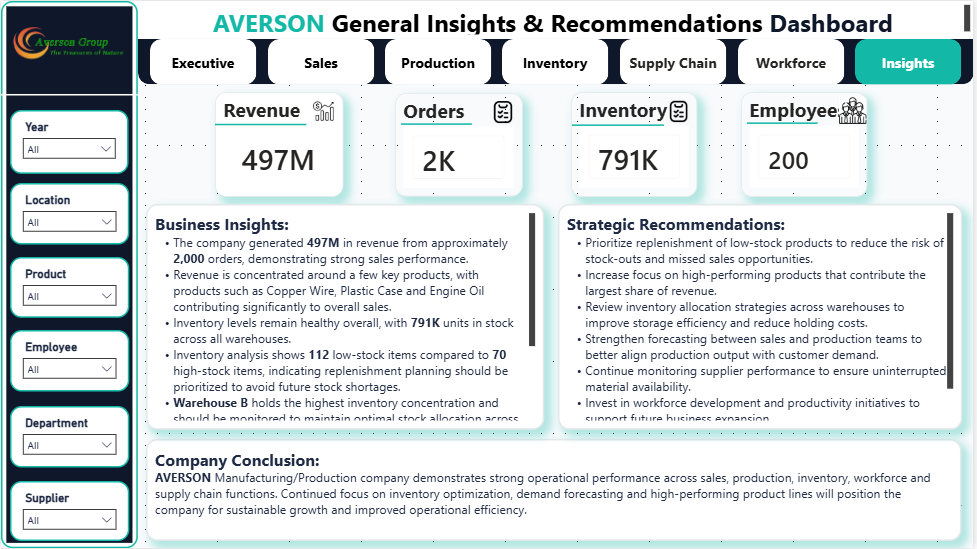

What the dashboard file says about the page in this screenshot:
{"tool":"powerbi","page":{"name":"General Insights & Recommendations","canvas":[1280,720],"ordinal":6},"visuals":[{"type":"shape","box":[0,0,180,720],"z":0,"group":"g12"},{"type":"textbox","box":[180.4,0,1099.6,49.5],"z":0},{"type":"group","id":"g1","title":"Group 2","box":[196.4,49.5,140,60],"z":0,"group":"g13"},{"type":"shape","box":[196.4,49.5,140,60],"z":0,"group":"g1"},{"type":"group","id":"g2","title":"Group 2","box":[351.1,49.5,140,60],"z":0,"group":"g14"},{"type":"shape","box":[351.1,49.5,140,60],"z":0,"group":"g2"},{"type":"group","id":"g3","title":"Group 2","box":[505.3,49.5,140,60],"z":0,"group":"g15"},{"type":"shape","box":[505.3,49.5,140,60],"z":0,"group":"g3"},{"type":"group","id":"g4","title":"Group 2","box":[659.9,49.5,140,60],"z":0,"group":"g16"},{"type":"shape","box":[659.9,49.5,140,60],"z":0,"group":"g4"},{"type":"group","id":"g5","title":"Group 2","box":[815.4,49.5,140,60],"z":0,"group":"g17"},{"type":"shape","box":[815.4,49.5,140,60],"z":0,"group":"g5"},{"type":"group","id":"g6","title":"Group 2","box":[969.8,49.5,140,60],"z":0,"group":"g18"},{"type":"shape","box":[969.8,49.5,140,60],"z":0,"group":"g6"},{"type":"group","id":"g7","title":"Group 2","box":[1124.4,49.5,140,60],"z":0,"group":"g19"},{"type":"shape","box":[1124.4,49.5,140,60],"z":0,"group":"g7"},{"type":"cardVisual","title":"Revenue","fields":{"Data":["My Executive Dashboard Measures.Total Revenue"]},"box":[281.9,119.7,168.7,138.2],"z":0,"group":"g20"},{"type":"cardVisual","title":"Inventory","fields":{"Data":["My Executive Dashboard Measures.Total Inventory"]},"box":[750.4,120.2,166.1,137.8],"z":0,"group":"g22"},{"type":"cardVisual","title":"Employees","fields":{"Data":["My Executive Dashboard Measures.Total Employees"]},"box":[974.4,120.2,166.4,137.8],"z":0,"group":"g8"},{"type":"cardVisual","title":"Orders","fields":{"Data":["My Executive Dashboard Measures.Total Orders"]},"box":[519.1,121.6,167.6,136.4],"z":0,"group":"g21"},{"type":"textbox","box":[196.4,62.6,139.6,34.9],"z":1000,"group":"g1"},{"type":"textbox","box":[351.1,62.6,139.6,34.9],"z":1000,"group":"g2"},{"type":"textbox","box":[505.3,62.6,139.6,34.9],"z":1000,"group":"g3"},{"type":"textbox","box":[659.9,62.6,139.6,34.9],"z":1000,"group":"g4"},{"type":"textbox","box":[815.4,62.6,139.6,34.9],"z":1000,"group":"g5"},{"type":"textbox","box":[969.8,62.6,139.6,34.9],"z":1000,"group":"g6"},{"type":"textbox","box":[1124.4,62.6,139.6,34.9],"z":1000,"group":"g7"},{"type":"group","id":"g8","title":"Group 5","box":[974.4,120.2,167.3,138.2],"z":1000,"group":"g10"},{"type":"shape","box":[282.2,150.2,120,25.1],"z":1000,"group":"g20"},{"type":"shape","box":[982.4,151.1,92.8,21.5],"z":1000,"group":"g8"},{"type":"shape","box":[527.1,152.2,93.5,21.2],"z":1000,"group":"g21"},{"type":"shape","box":[752.1,153.2,121.3,21.5],"z":1000,"group":"g22"},{"type":"shape","box":[11.6,625.5,155.6,84.4],"z":1000},{"type":"image","box":[1102.7,124.8,36.1,41],"z":2000,"group":"g8"},{"type":"image","box":[878.3,126.7,27.6,37.6],"z":2000,"group":"g22"},{"type":"image","box":[410.3,126.9,26.6,37.6],"z":2000,"group":"g20"},{"type":"image","box":[646.6,128.7,28.9,37.2],"z":2000,"group":"g21"},{"type":"shape","box":[11.6,528,157.1,94.5],"z":2000},{"type":"shape","box":[11.6,430.5,157.1,94.5],"z":3000},{"type":"shape","box":[11.6,331.6,157.1,94.5],"z":4000},{"type":"shape","box":[11.6,232.7,157.1,94.5],"z":5000},{"type":"textbox","box":[190.5,267.6,524.5,296.7],"z":5000,"group":"g11"},{"type":"shape","box":[11.6,133.8,157.1,94.5],"z":6000},{"type":"shape","box":[180.4,49.5,1099.6,59.6],"z":7000},{"type":"group","id":"g9","title":"Group 11","box":[196.4,49.5,1067.6,60],"z":8000},{"type":"textbox","box":[190.5,576,1073.5,133.8],"z":9000},{"type":"group","id":"g10","title":"Group 3","box":[281.9,119.7,859.8,138.7],"z":10000},{"type":"group","id":"g11","title":"Group 6","box":[190.5,267.6,1073.5,296.7],"z":11000},{"type":"group","id":"g12","title":"Group 8","box":[0,0,180.4,720],"z":12000},{"type":"group","id":"g13","title":"Group 1","box":[196.4,49.5,140,60],"z":12000,"group":"g9"},{"type":"group","id":"g14","title":"Group 1","box":[351.1,49.5,139.6,59.6],"z":13000,"group":"g9"},{"type":"image","box":[11.6,0,157.1,109.1],"z":14000,"group":"g12"},{"type":"group","id":"g15","title":"Group 1","box":[505.3,49.5,139.6,59.6],"z":14000,"group":"g9"},{"type":"group","id":"g16","title":"Group 1","box":[659.9,49.5,139.6,59.6],"z":15000,"group":"g9"},{"type":"shape","box":[0,113.5,180.4,20.4],"z":15000,"group":"g12"},{"type":"group","id":"g17","title":"Group 1","box":[815.4,49.5,139.6,59.6],"z":16000,"group":"g9"},{"type":"slicer","fields":{"Values":["Calendar.Year"]},"box":[12,144,156,84],"z":16000,"group":"g12"},{"type":"group","id":"g18","title":"Group 1","box":[969.8,49.5,139.6,59.6],"z":17000,"group":"g9"},{"type":"slicer","fields":{"Values":["Inventory.Location"]},"box":[11.6,240,157.1,81.5],"z":17000,"group":"g12"},{"type":"group","id":"g19","title":"Group 1","box":[1124.4,49.5,139.6,59.6],"z":18000,"group":"g9"},{"type":"slicer","fields":{"Values":["Products.ProductName"]},"box":[11.6,337.5,157.1,80],"z":18000,"group":"g12"},{"type":"group","id":"g20","title":"Group 4","box":[281.9,119.7,168.7,138.2],"z":19000,"group":"g10"},{"type":"slicer","fields":{"Values":["Employees.FullName"]},"box":[11.6,433.5,157.1,81.5],"z":19000,"group":"g12"},{"type":"group","id":"g21","title":"Group 5","box":[519.1,121.6,170.2,135.3],"z":20000,"group":"g10"},{"type":"slicer","fields":{"Values":["Departments.DepartmentName"]},"box":[11.6,532.4,157.1,81.5],"z":20000,"group":"g12"},{"type":"slicer","fields":{"Values":["Suppliers.SupplierName"]},"box":[11.6,631.3,157.1,78.5],"z":21000,"group":"g12"},{"type":"group","id":"g22","title":"Group 7","box":[750.4,120.2,168.7,138.2],"z":22000,"group":"g10"},{"type":"textbox","box":[732.3,267.6,531.7,296.7],"z":22001,"group":"g11"}]}

Visuals, with their boxes in screenshot pixels (x1, y1, x2, y2), scaled from the page's 1280x720 canvas onto the 977x549 screenshot:
shape: {"x1": 0, "y1": 0, "x2": 137, "y2": 548}
textbox: {"x1": 138, "y1": 0, "x2": 976, "y2": 38}
"Group 2" group: {"x1": 150, "y1": 38, "x2": 257, "y2": 83}
shape: {"x1": 150, "y1": 38, "x2": 257, "y2": 83}
"Group 2" group: {"x1": 268, "y1": 38, "x2": 375, "y2": 83}
shape: {"x1": 268, "y1": 38, "x2": 375, "y2": 83}
"Group 2" group: {"x1": 386, "y1": 38, "x2": 493, "y2": 83}
shape: {"x1": 386, "y1": 38, "x2": 493, "y2": 83}
"Group 2" group: {"x1": 504, "y1": 38, "x2": 611, "y2": 83}
shape: {"x1": 504, "y1": 38, "x2": 611, "y2": 83}
"Group 2" group: {"x1": 622, "y1": 38, "x2": 729, "y2": 83}
shape: {"x1": 622, "y1": 38, "x2": 729, "y2": 83}
"Group 2" group: {"x1": 740, "y1": 38, "x2": 847, "y2": 83}
shape: {"x1": 740, "y1": 38, "x2": 847, "y2": 83}
"Group 2" group: {"x1": 858, "y1": 38, "x2": 965, "y2": 83}
shape: {"x1": 858, "y1": 38, "x2": 965, "y2": 83}
"Revenue" cardVisual: {"x1": 215, "y1": 91, "x2": 344, "y2": 197}
"Inventory" cardVisual: {"x1": 573, "y1": 92, "x2": 700, "y2": 197}
"Employees" cardVisual: {"x1": 744, "y1": 92, "x2": 871, "y2": 197}
"Orders" cardVisual: {"x1": 396, "y1": 93, "x2": 524, "y2": 197}
textbox: {"x1": 150, "y1": 48, "x2": 256, "y2": 74}
textbox: {"x1": 268, "y1": 48, "x2": 375, "y2": 74}
textbox: {"x1": 386, "y1": 48, "x2": 492, "y2": 74}
textbox: {"x1": 504, "y1": 48, "x2": 610, "y2": 74}
textbox: {"x1": 622, "y1": 48, "x2": 729, "y2": 74}
textbox: {"x1": 740, "y1": 48, "x2": 847, "y2": 74}
textbox: {"x1": 858, "y1": 48, "x2": 965, "y2": 74}
"Group 5" group: {"x1": 744, "y1": 92, "x2": 871, "y2": 197}
shape: {"x1": 215, "y1": 115, "x2": 307, "y2": 134}
shape: {"x1": 750, "y1": 115, "x2": 821, "y2": 132}
shape: {"x1": 402, "y1": 116, "x2": 474, "y2": 132}
shape: {"x1": 574, "y1": 117, "x2": 667, "y2": 133}
shape: {"x1": 9, "y1": 477, "x2": 128, "y2": 541}
image: {"x1": 842, "y1": 95, "x2": 869, "y2": 126}
image: {"x1": 670, "y1": 97, "x2": 691, "y2": 125}
image: {"x1": 313, "y1": 97, "x2": 333, "y2": 125}
image: {"x1": 494, "y1": 98, "x2": 516, "y2": 126}
shape: {"x1": 9, "y1": 403, "x2": 129, "y2": 475}
shape: {"x1": 9, "y1": 328, "x2": 129, "y2": 400}
shape: {"x1": 9, "y1": 253, "x2": 129, "y2": 325}
shape: {"x1": 9, "y1": 177, "x2": 129, "y2": 249}
textbox: {"x1": 145, "y1": 204, "x2": 546, "y2": 430}
shape: {"x1": 9, "y1": 102, "x2": 129, "y2": 174}
shape: {"x1": 138, "y1": 38, "x2": 976, "y2": 83}
"Group 11" group: {"x1": 150, "y1": 38, "x2": 965, "y2": 83}
textbox: {"x1": 145, "y1": 439, "x2": 965, "y2": 541}
"Group 3" group: {"x1": 215, "y1": 91, "x2": 871, "y2": 197}
"Group 6" group: {"x1": 145, "y1": 204, "x2": 965, "y2": 430}
"Group 8" group: {"x1": 0, "y1": 0, "x2": 138, "y2": 548}
"Group 1" group: {"x1": 150, "y1": 38, "x2": 257, "y2": 83}
"Group 1" group: {"x1": 268, "y1": 38, "x2": 375, "y2": 83}
image: {"x1": 9, "y1": 0, "x2": 129, "y2": 83}
"Group 1" group: {"x1": 386, "y1": 38, "x2": 492, "y2": 83}
"Group 1" group: {"x1": 504, "y1": 38, "x2": 610, "y2": 83}
shape: {"x1": 0, "y1": 87, "x2": 138, "y2": 102}
"Group 1" group: {"x1": 622, "y1": 38, "x2": 729, "y2": 83}
slicer - Calendar.Year: {"x1": 9, "y1": 110, "x2": 128, "y2": 174}
"Group 1" group: {"x1": 740, "y1": 38, "x2": 847, "y2": 83}
slicer - Inventory.Location: {"x1": 9, "y1": 183, "x2": 129, "y2": 245}
"Group 1" group: {"x1": 858, "y1": 38, "x2": 965, "y2": 83}
slicer - Products.ProductName: {"x1": 9, "y1": 257, "x2": 129, "y2": 318}
"Group 4" group: {"x1": 215, "y1": 91, "x2": 344, "y2": 197}
slicer - Employees.FullName: {"x1": 9, "y1": 331, "x2": 129, "y2": 393}
"Group 5" group: {"x1": 396, "y1": 93, "x2": 526, "y2": 196}
slicer - Departments.DepartmentName: {"x1": 9, "y1": 406, "x2": 129, "y2": 468}
slicer - Suppliers.SupplierName: {"x1": 9, "y1": 481, "x2": 129, "y2": 541}
"Group 7" group: {"x1": 573, "y1": 92, "x2": 702, "y2": 197}
textbox: {"x1": 559, "y1": 204, "x2": 965, "y2": 430}
